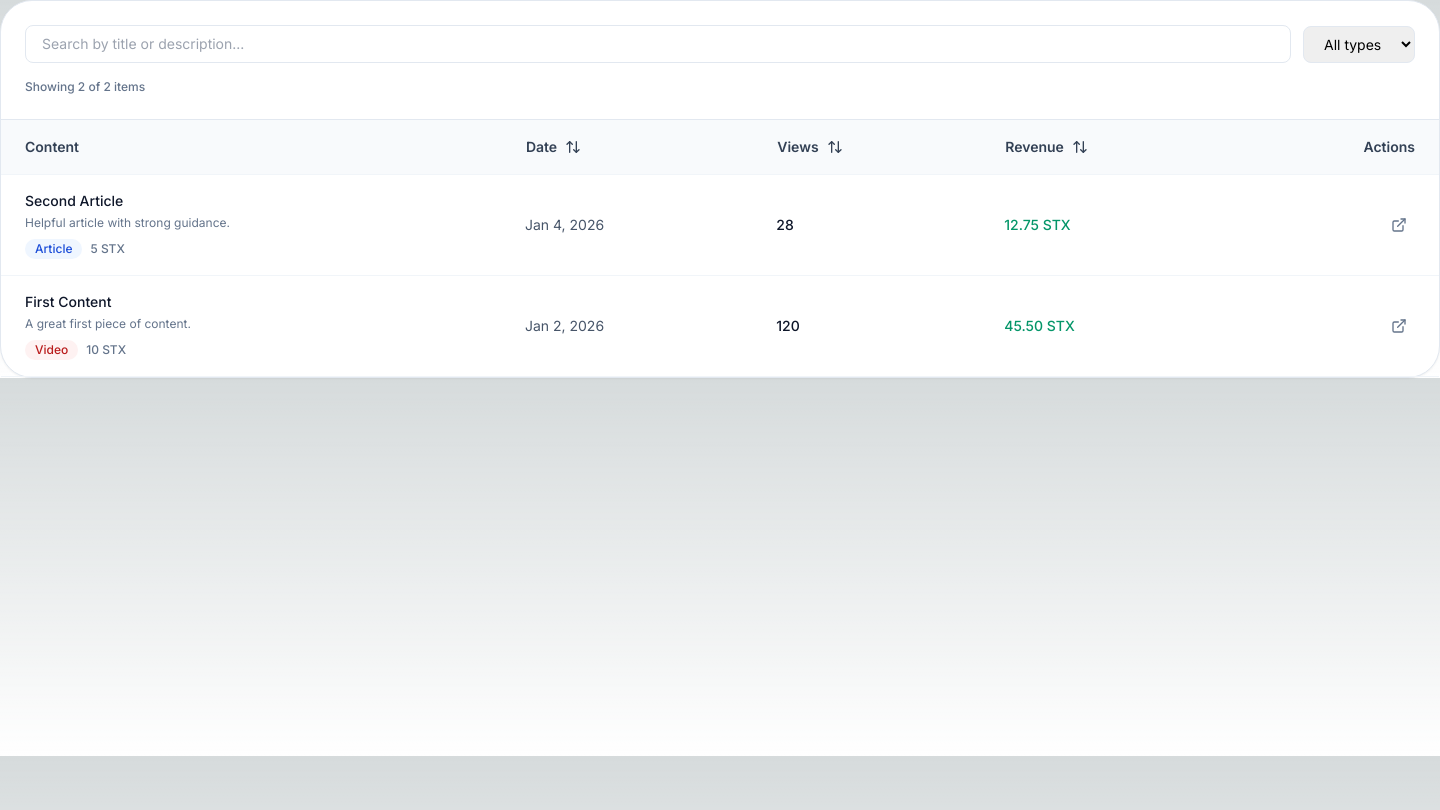
Scenario: ContentBrowser › searches content items by title and description
Step 1. Type "helpful" into the field with placeholder "Search by title or description..." → (658, 44), box x1=25 y1=25 x2=1291 y2=63
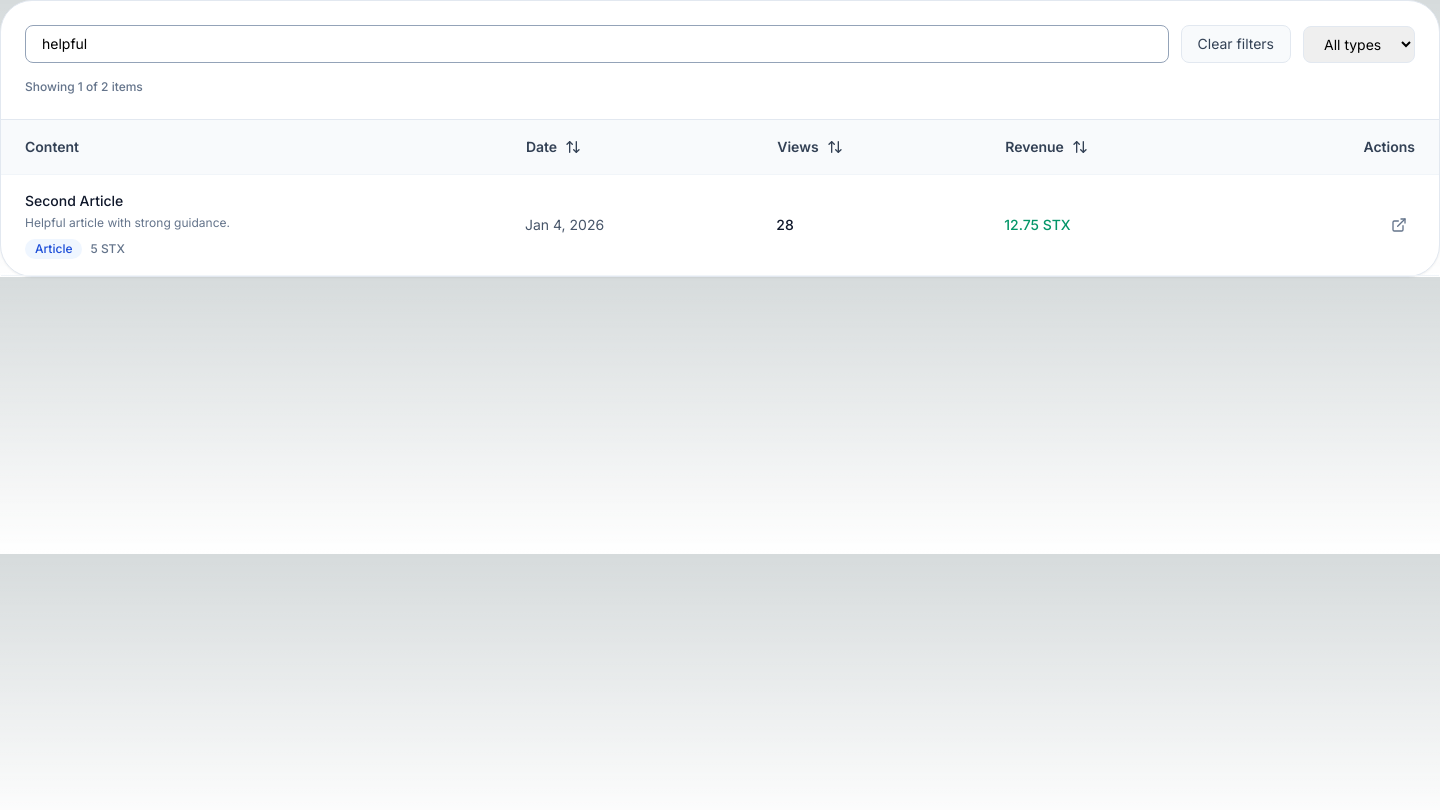
Expected: the text "Second Article" is shown, x1=25 y1=192 x2=123 y2=209
Now the text "Showing 1 of 2 items" is shown, box x1=25 y1=79 x2=143 y2=94
Now the text "First Content" is gone
